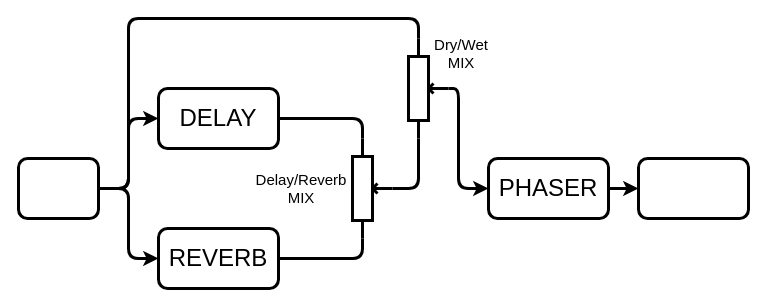
Some shapes in this 767 by 307 pixel diagram are drawn without their labels. The shapes that lost their labels are listed below. From the top down, each one's centre as x and y in pixels, then its label:
At point 58,188: "INPUT".
At point 693,188: "OUTPUT".
